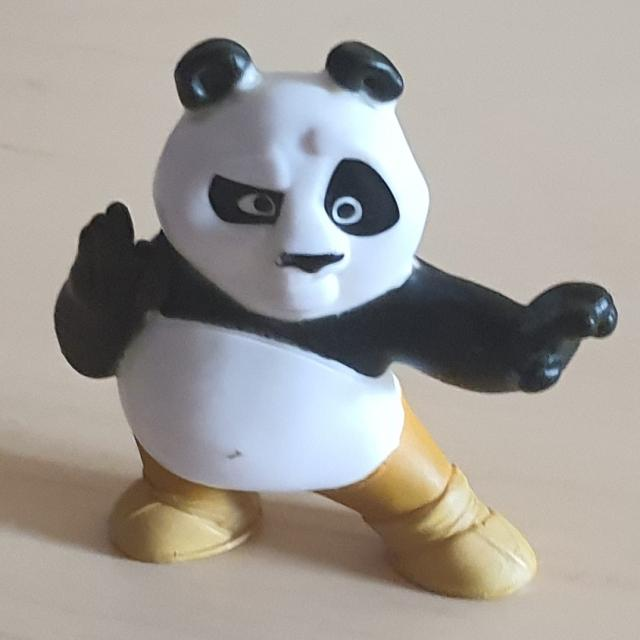Panda: (53, 36, 619, 600)
